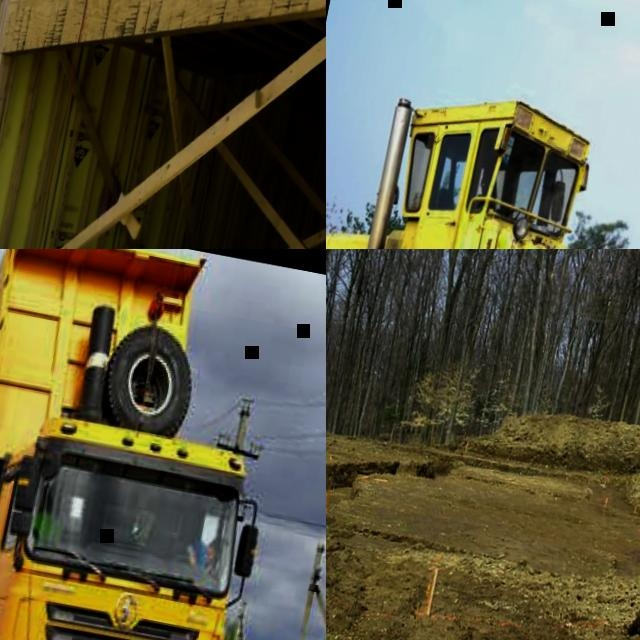Person: (179, 527, 230, 575), (31, 491, 73, 548)
Safety Vest: (30, 508, 68, 547), (189, 538, 219, 571)
machinery: (0, 249, 309, 640), (326, 43, 640, 249)
